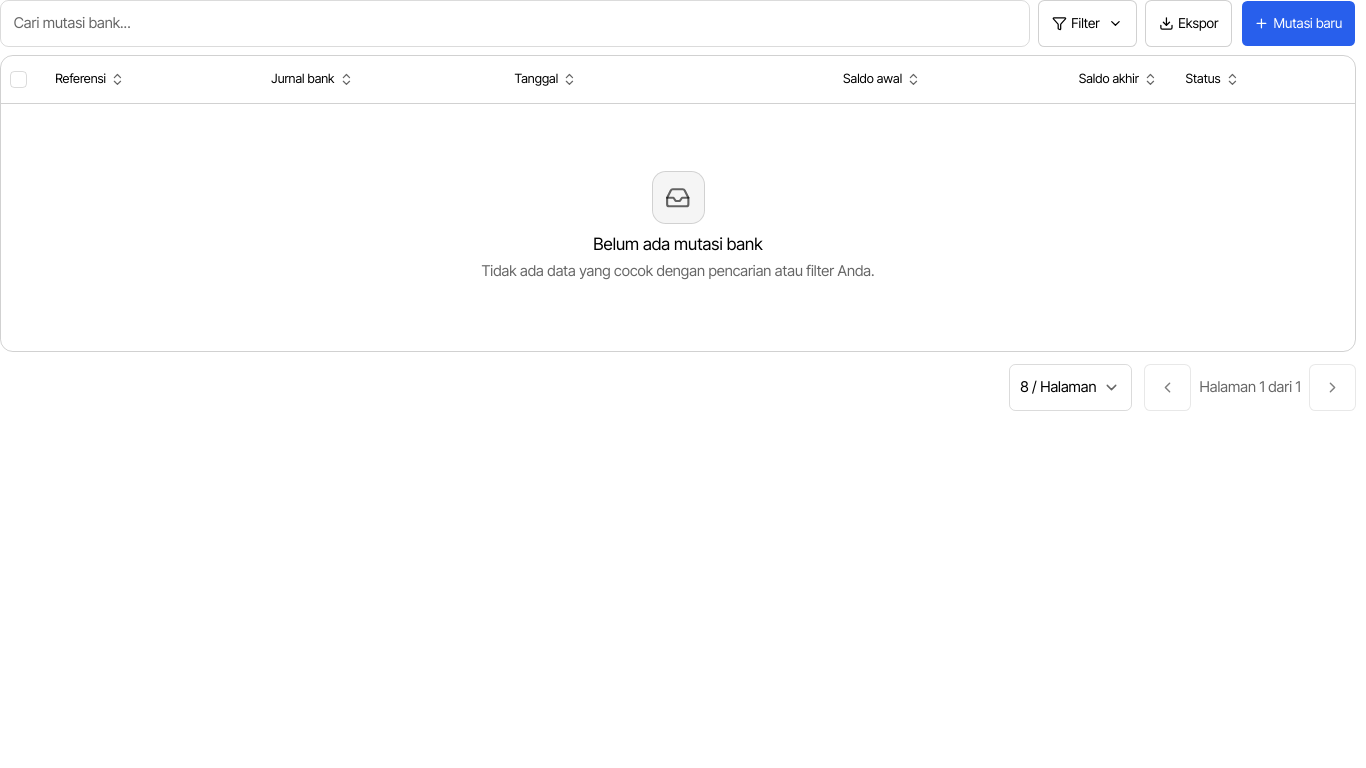
BankStatementsSection branches2 › keeps the dialog open when journal is missing
The width and height of the screenshot is (1366, 768).
Click the button "Mutasi baru".
click(1298, 23)  # box [1241, 0, 1356, 47]
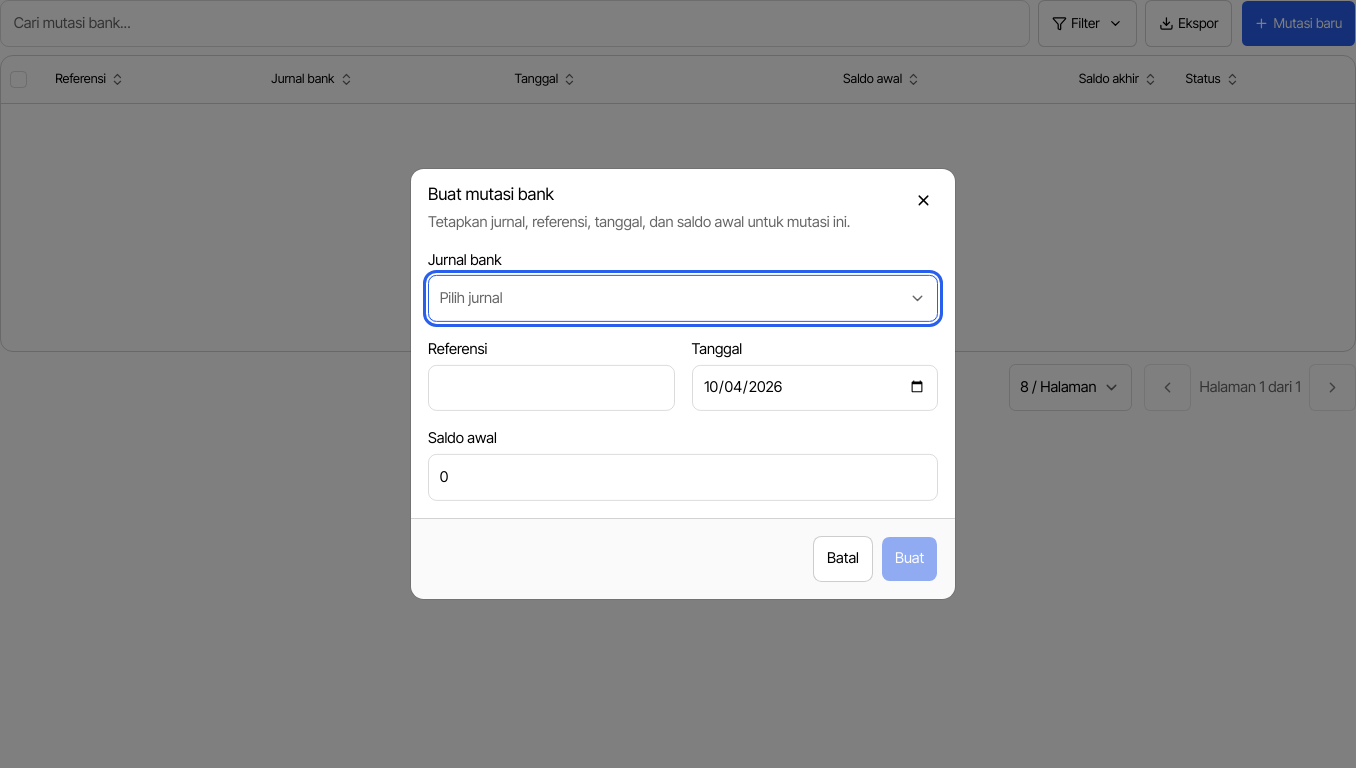
Now the dialog is shown, box [411, 169, 955, 599]
Now the button "Buat" is disabled, box [881, 535, 938, 582]
